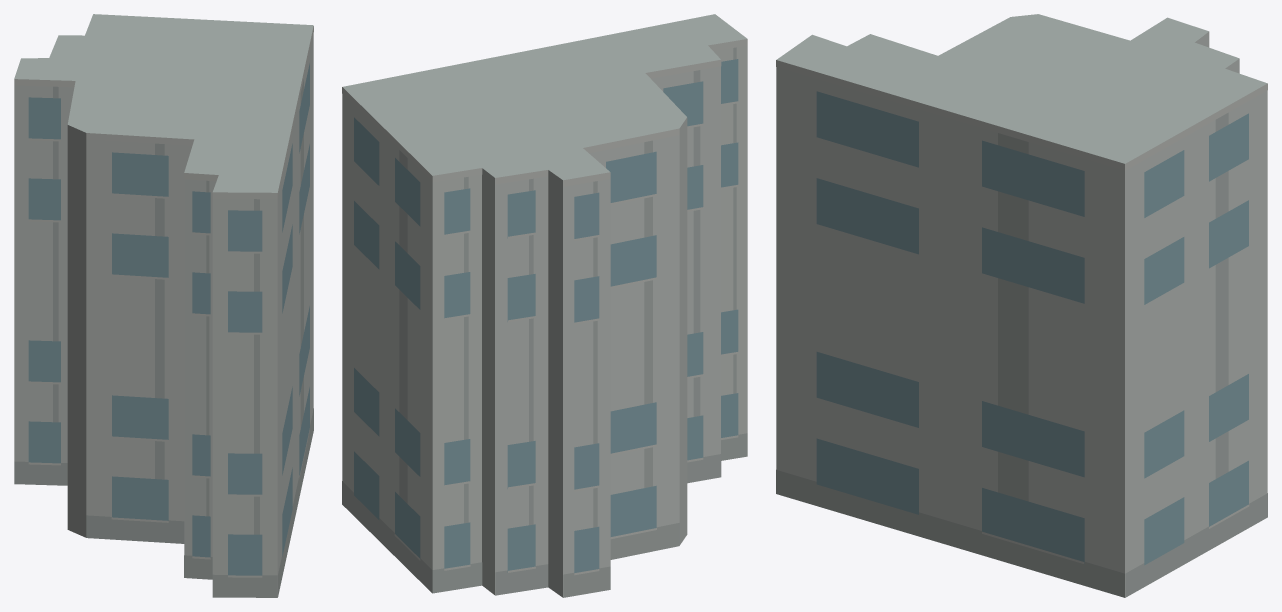
The model's file is residential-0d937894-9c63-46c8-8c43-7b477bbe4862.glb.
3 views of the same model, side by side, from view 1: azimuth 30°, elevation 25°; view 2: azimuth 150°, elevation 25°; view 3: azimuth 270°, elevation 25° (orthographic). The views are drawn at different scales.
Parts seen in each view (by area): view 1: residential-0d937894-9c63-46c8-8c43-7b477bbe4862.tmp; view 2: residential-0d937894-9c63-46c8-8c43-7b477bbe4862.tmp; view 3: residential-0d937894-9c63-46c8-8c43-7b477bbe4862.tmp.
Part boxes in pixels (x1,y1,x2,y2): residential-0d937894-9c63-46c8-8c43-7b477bbe4862.tmp: (14,14,313,597); residential-0d937894-9c63-46c8-8c43-7b477bbe4862.tmp: (342,14,747,597); residential-0d937894-9c63-46c8-8c43-7b477bbe4862.tmp: (776,14,1267,597).
Bounding box in the file's own units: 11.3 × 15.25 × 15.66.
